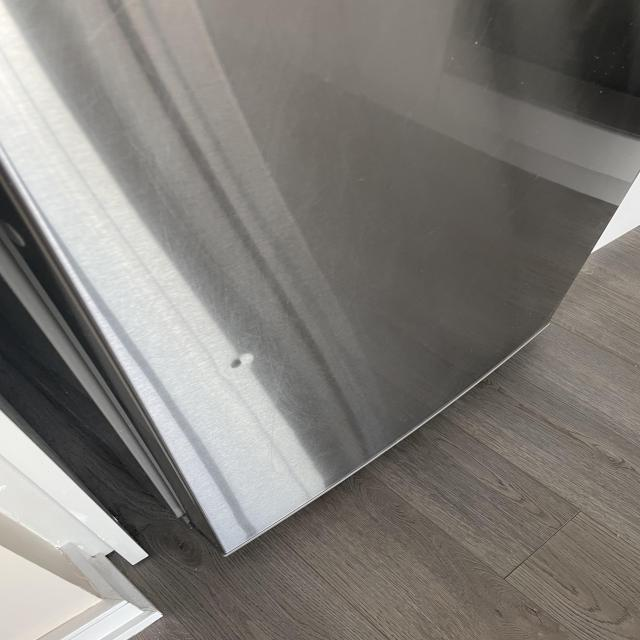dents: (217, 342, 283, 385)
